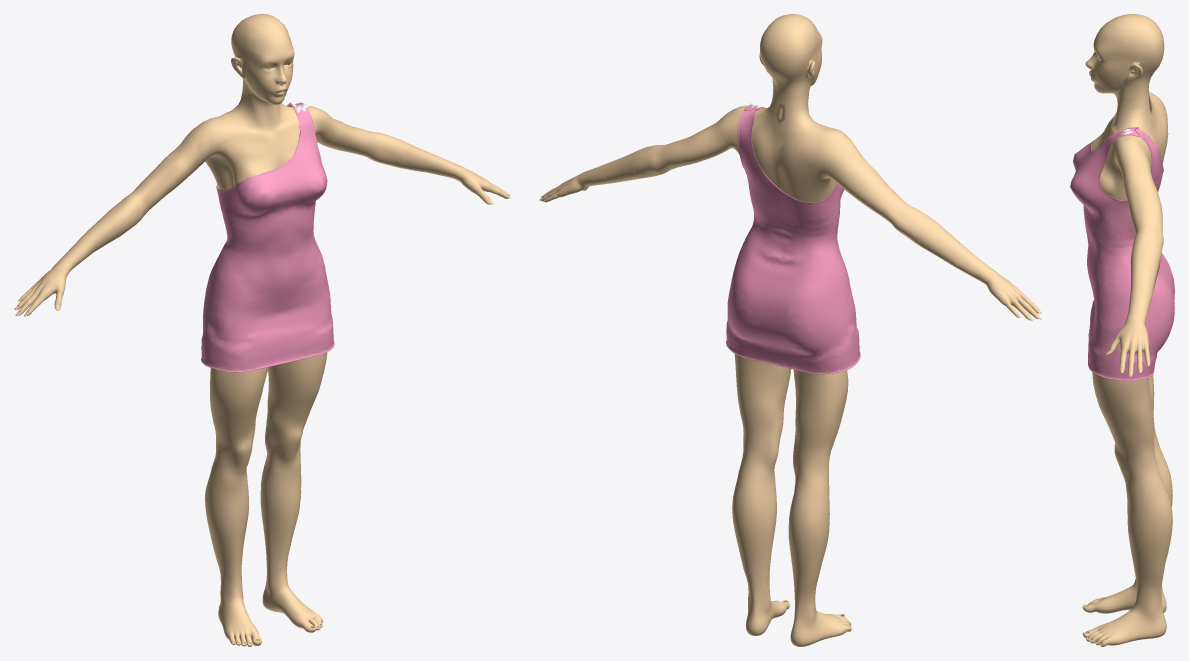
The model's file is dress1.glb.
3 renders of one model, left to right at view 1: azimuth 30°, elevation 25°; view 2: azimuth 150°, elevation 25°; view 3: azimuth 270°, elevation 25°, orthographic.
Visible parts, largest first — view 1: Body, WhiteDress; view 2: Body, WhiteDress; view 3: Body, WhiteDress.
Part boxes in pixels (x1,y1,x2,y2): Body: (16,14,510,646); WhiteDress: (201,102,334,372); Body: (540,14,1038,646); WhiteDress: (726,103,860,374); Body: (1082,14,1172,646); WhiteDress: (1070,127,1174,380).
Size of the model in its own units: 1.58 by 1.85 by 0.288.
